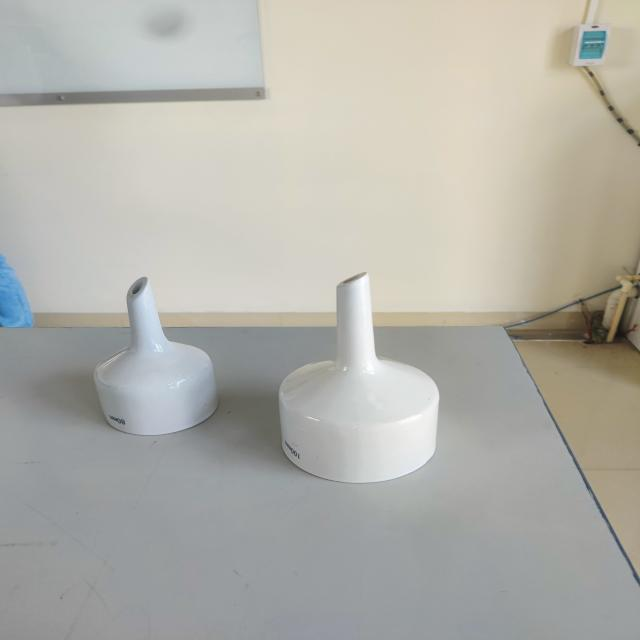Buchner_Funnel: (261, 258, 488, 504), (62, 260, 239, 450)
